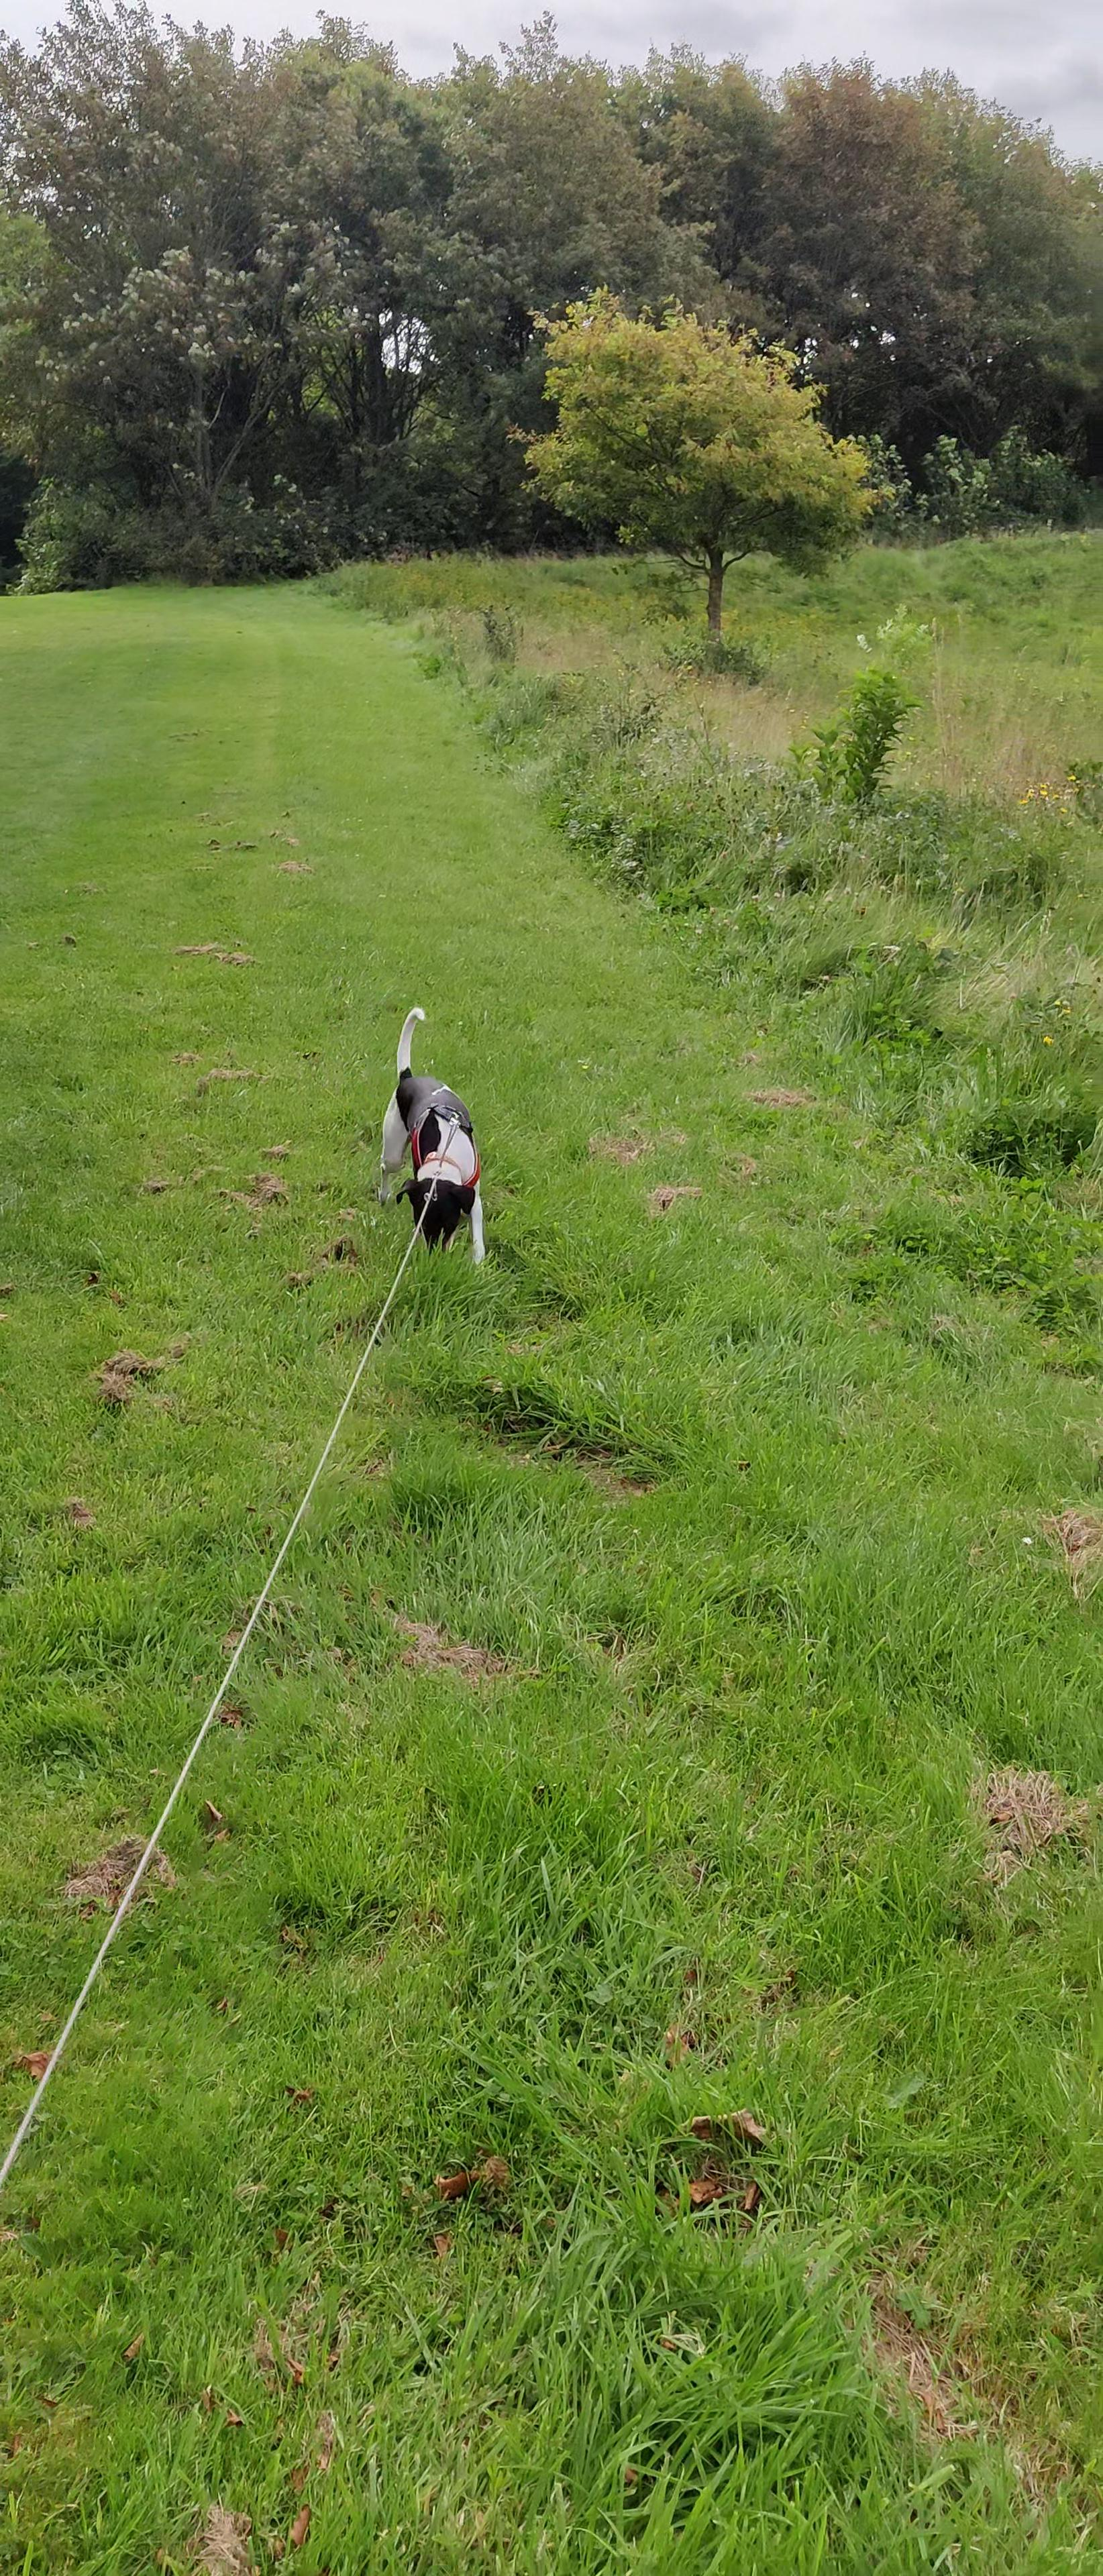Dog: (358, 992, 498, 1281)
